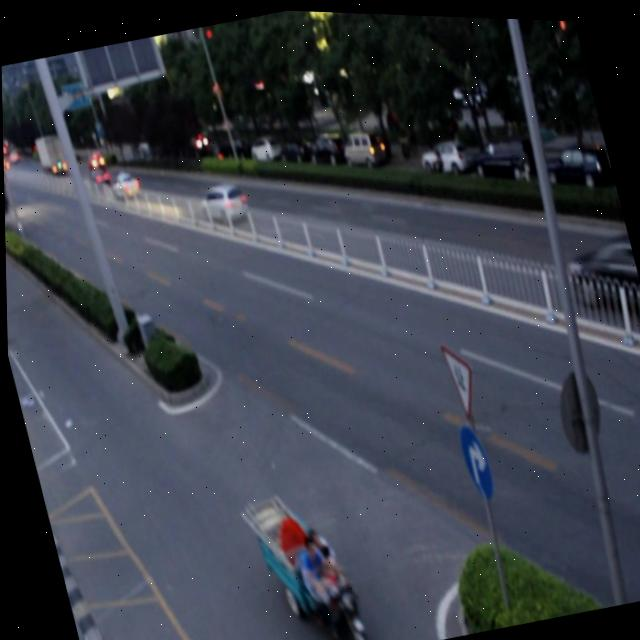car: (561, 226, 640, 329), (194, 175, 250, 231)
